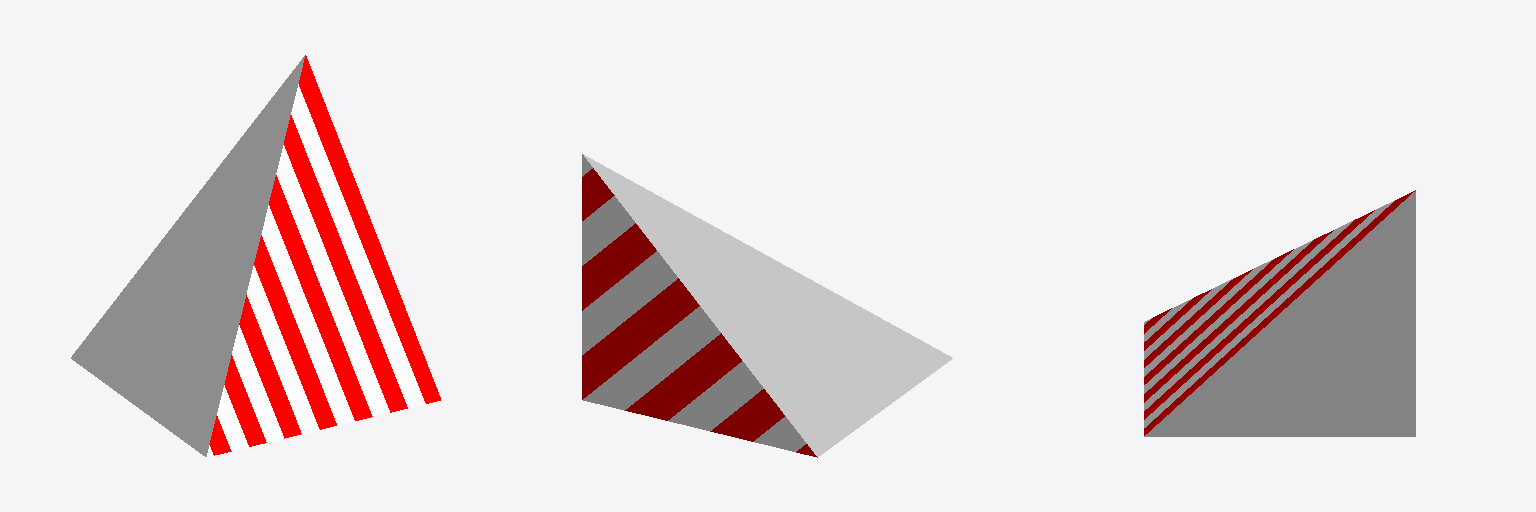
3 renders of one model, left to right at view 1: azimuth 30°, elevation 25°; view 2: azimuth 150°, elevation 25°; view 3: azimuth 270°, elevation 25°, orthographic.
Visible parts, largest first — view 1: Mesh.001_but_cote2; view 2: Mesh.001_but_cote2; view 3: Mesh.001_but_cote2.
Part boxes in pixels (x1,y1,x2,y2): Mesh.001_but_cote2: (71,55,440,457); Mesh.001_but_cote2: (582,154,952,457); Mesh.001_but_cote2: (1144,190,1415,436).
Bounding box in the file's own units: 1 × 1 × 1.
Materials: 2 (1 with a texture image).